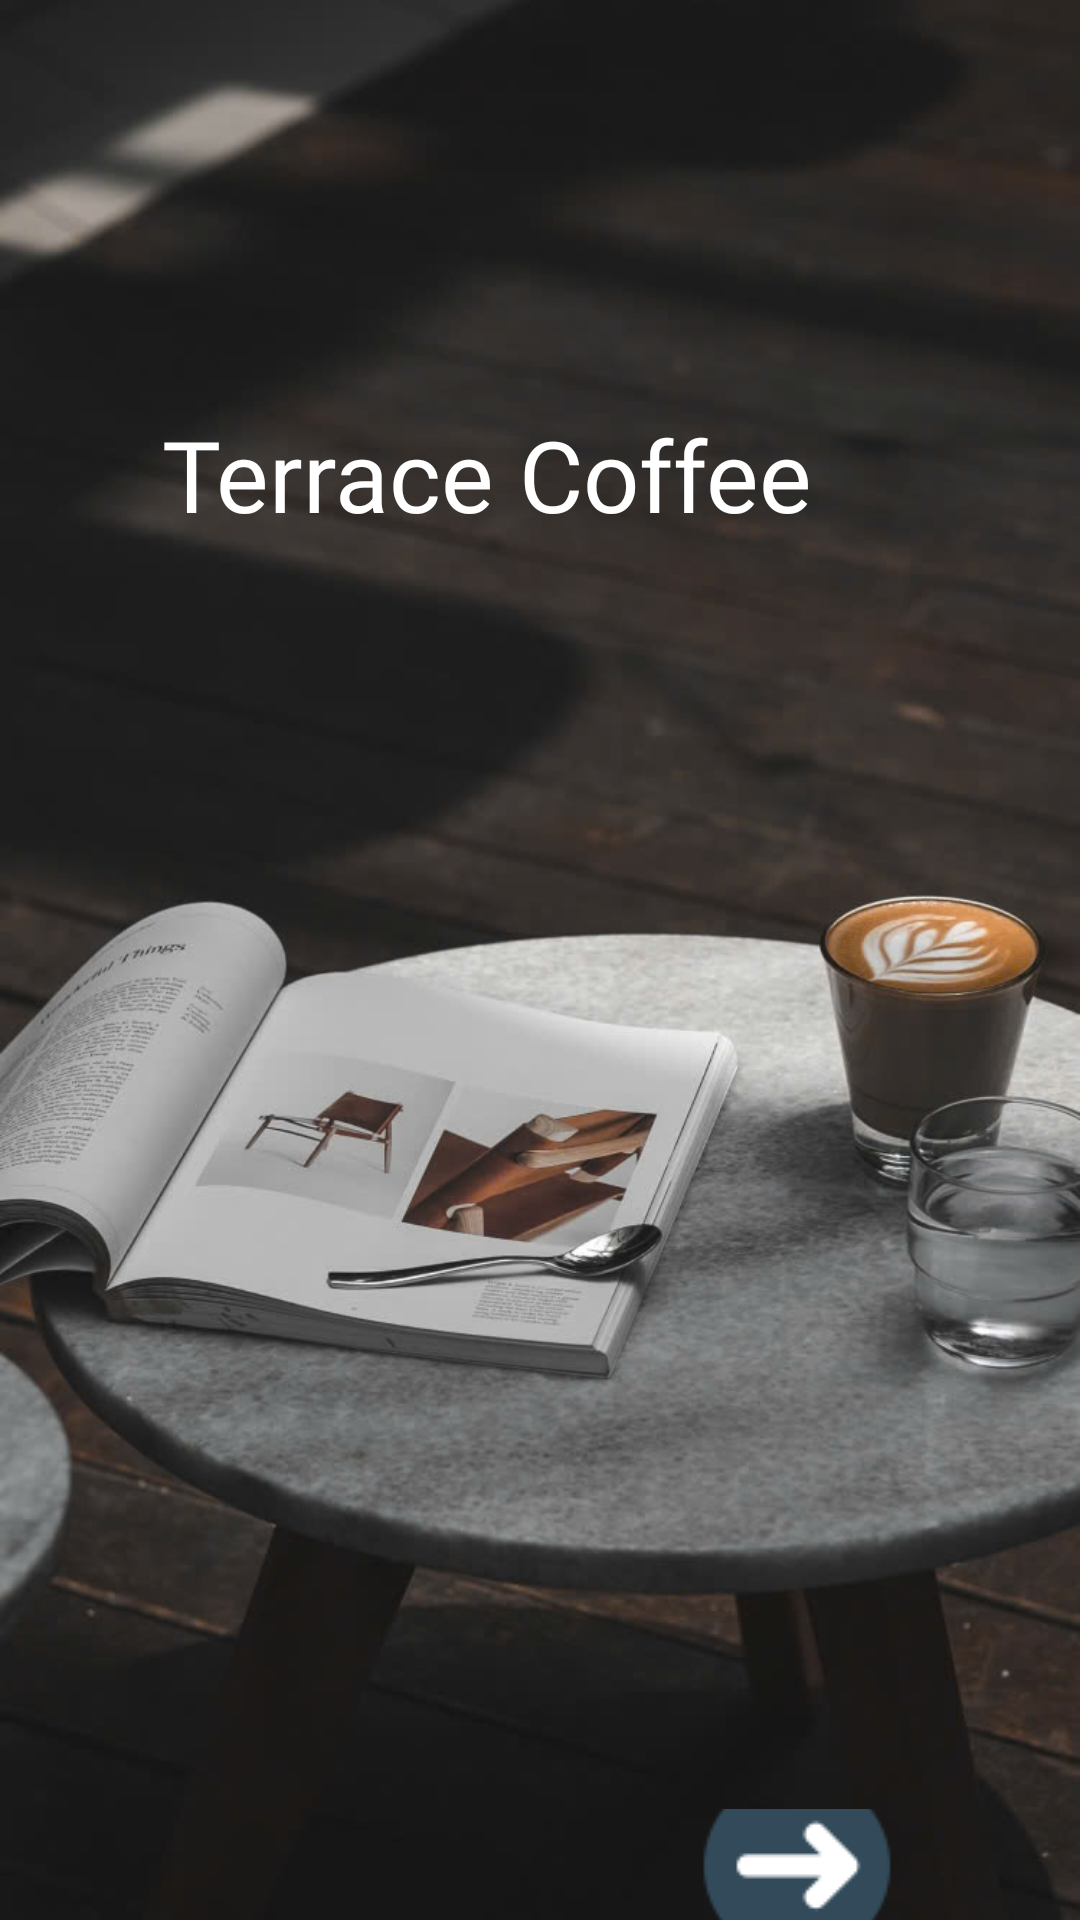

Screen size 1080px×1920px. Icon name, then its center in pixels as (x,y):
right: (797,1864)
